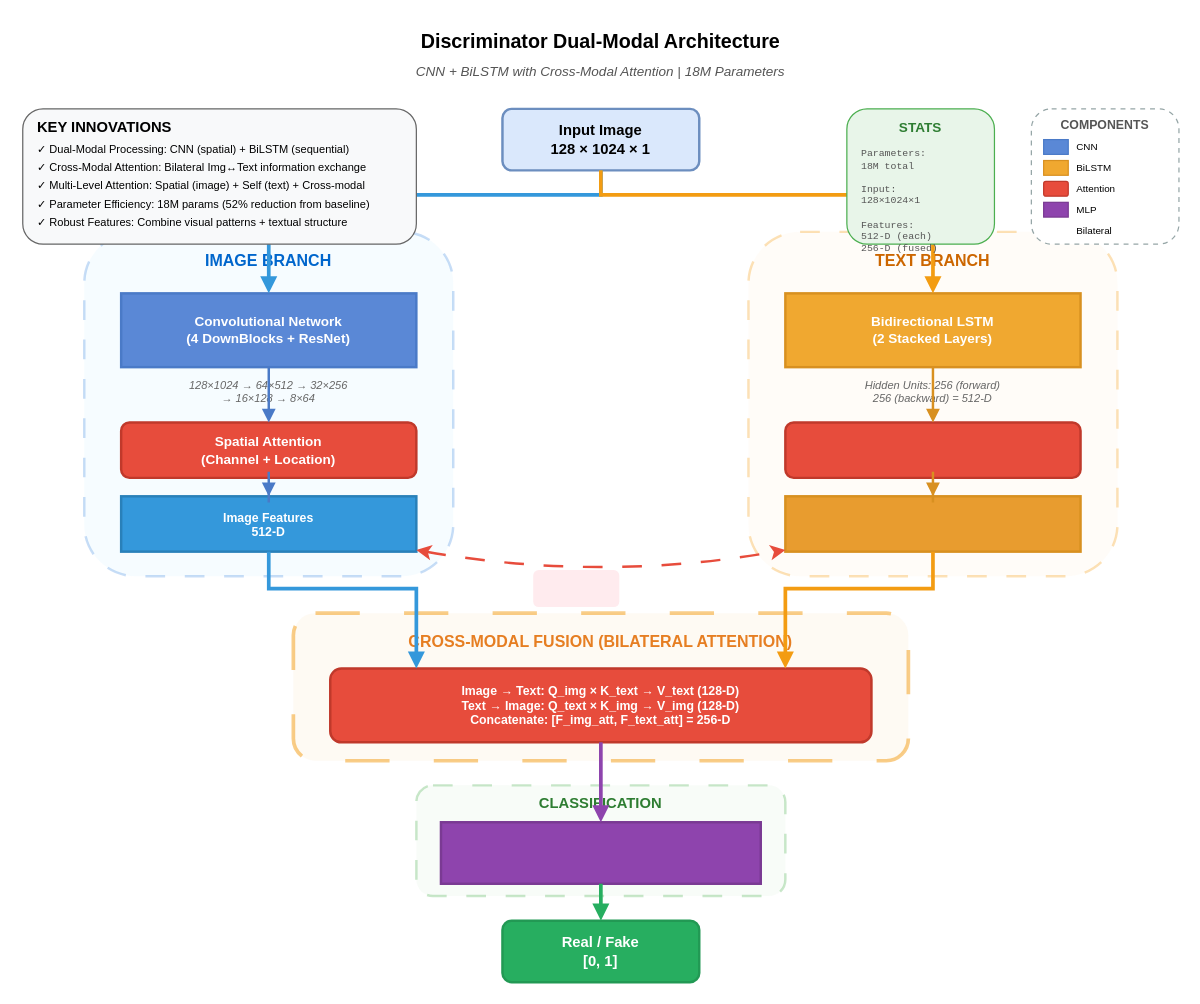
Image size: 1200x1004. Some labels were removed from this diagram. The shapes that lost their labels are listed below. From the top down, each one's box as (x1, y1, x2, y2) in pixels, then its label:
(784, 421, 1081, 478): Self-Attention (Query-Key-Value)
(784, 494, 1081, 552): Text Features 512-D
(533, 569, 619, 606): Bilateral Attention
(439, 820, 761, 884): MLP Classifier Dense-512 → Dense-256 → Output (LeakyReLU + Dropout 0.1)
